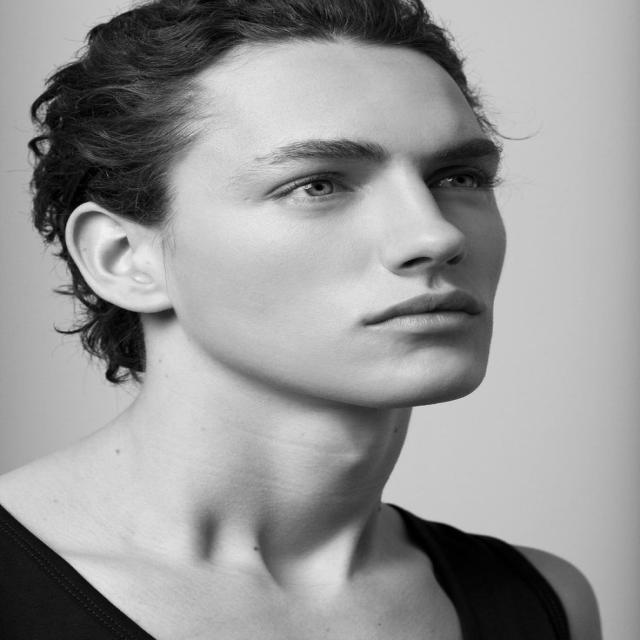front: (231, 134, 528, 386)
